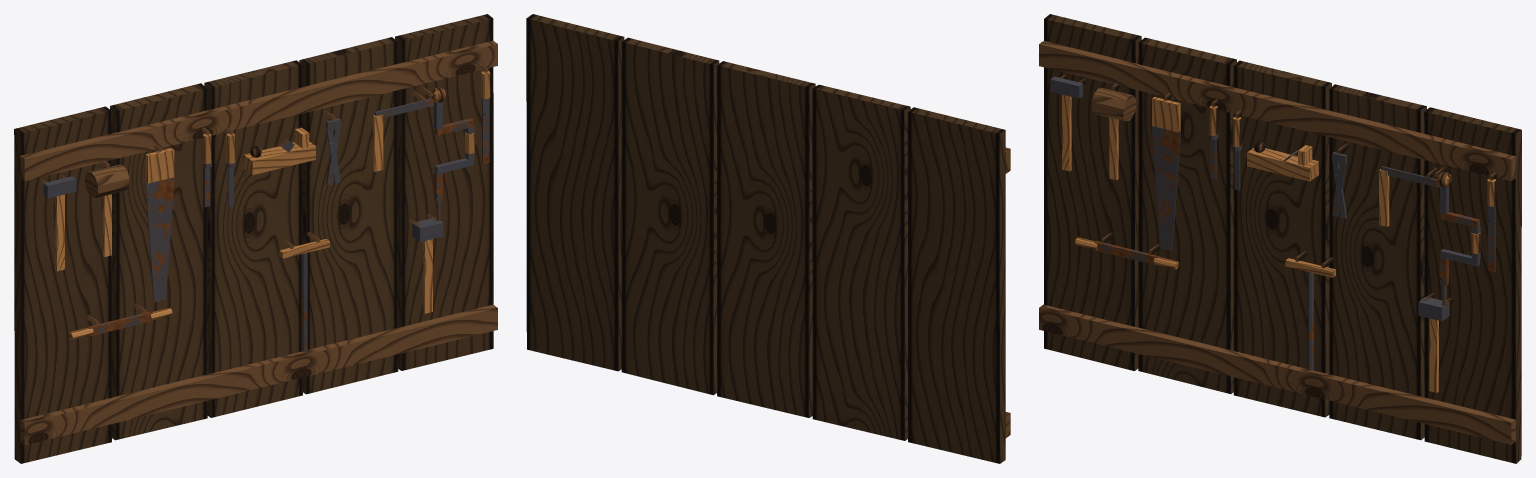
The model's file is Tool_Board.glb.
3 renders of one model, left to right at view 1: azimuth 30°, elevation 25°; view 2: azimuth 150°, elevation 25°; view 3: azimuth 330°, elevation 25°, orthographic.
Parts seen in each view (by area): view 1: Tool_Board; view 2: Tool_Board; view 3: Tool_Board.
Boxes of the visible parts, x1,y1,x2,y2 form: Tool_Board: [14, 14, 497, 463]; Tool_Board: [526, 14, 1010, 463]; Tool_Board: [1039, 14, 1521, 463].
Size of the model in its own units: 1.8 by 1.2 by 0.1398.
Materials: 4 (4 with a texture image).
